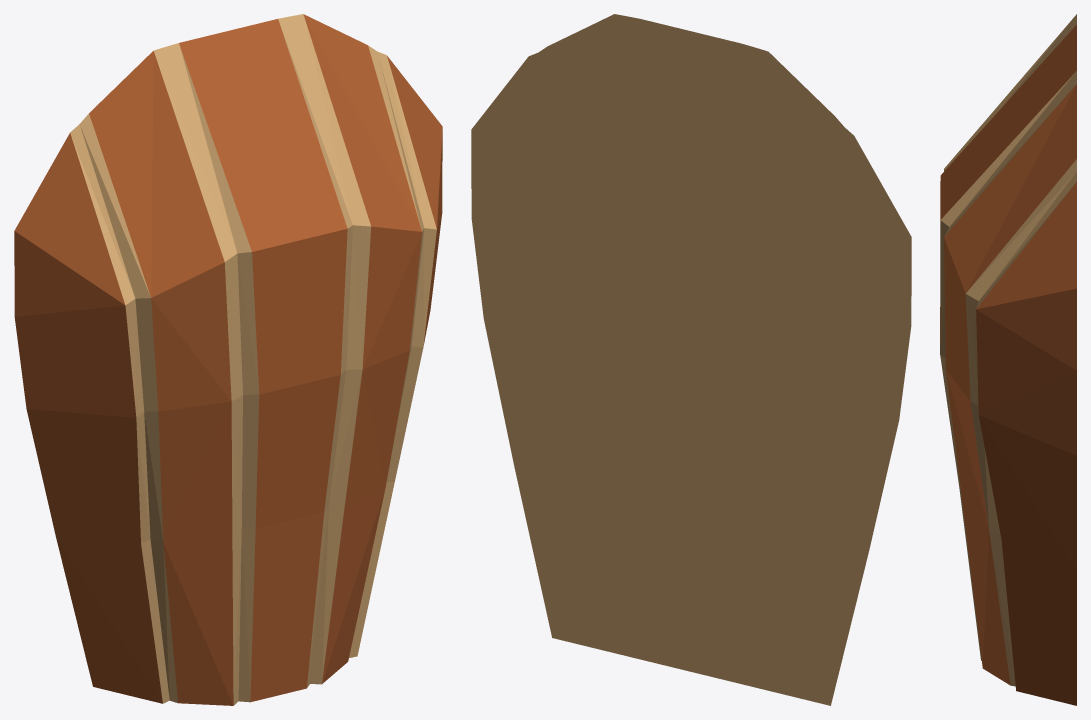
File: madeleine.fbx
3 views of the same model, side by side, from view 1: azimuth 30°, elevation 25°; view 2: azimuth 150°, elevation 25°; view 3: azimuth 270°, elevation 25° (orthographic). The views are drawn at different scales.
Visible parts, largest first — view 1: madeleine; view 2: madeleine; view 3: madeleine.
Boxes of the visible parts, x1=… form: madeleine: x1=14, y1=14, x2=442, y2=705; madeleine: x1=471, y1=14, x2=911, y2=705; madeleine: x1=940, y1=14, x2=1076, y2=705.
Bounding box in the file's own units: 4.76 × 6.67 × 1.38.
